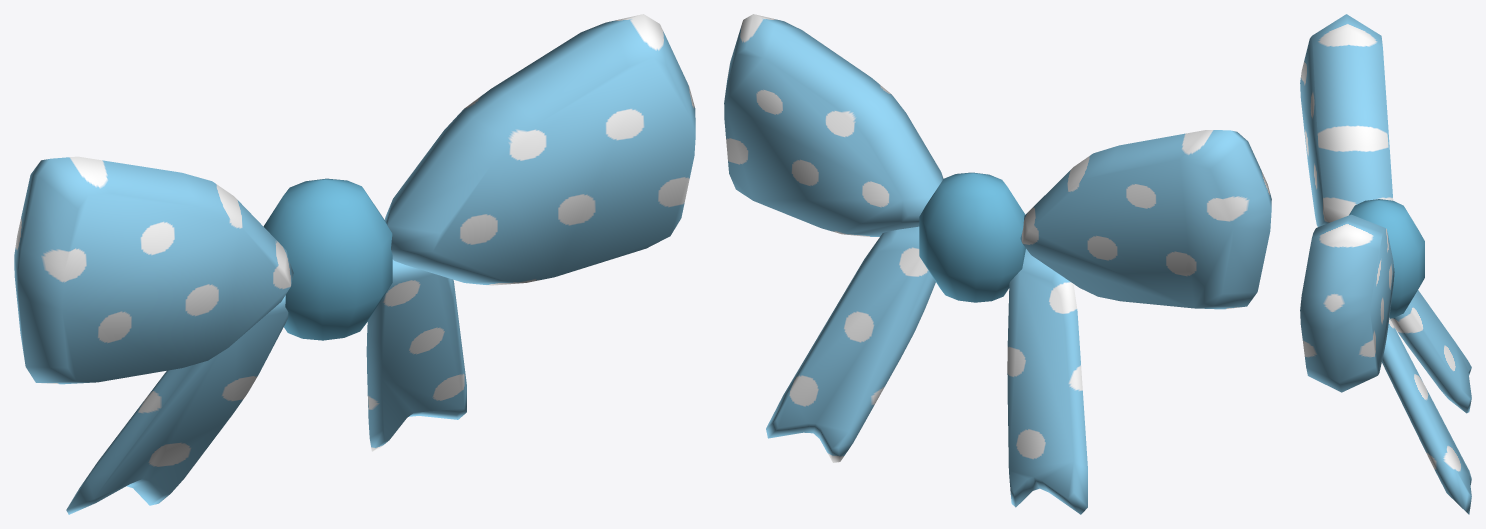
The model's file is ribbon_polka.glb.
3 views of the same model, side by side, from view 1: azimuth 30°, elevation 25°; view 2: azimuth 150°, elevation 25°; view 3: azimuth 270°, elevation 25° (orthographic). The views are drawn at different scales.
Parts seen in each view (by area): view 1: Loop.001, Loop, Tail, Knot, Tail.001; view 2: Loop, Loop.001, Tail.001, Tail, Knot; view 3: Loop, Loop.001, Tail.001, Tail, Knot.
Boxes of the visible parts, x1=… form: Loop.001: x1=385, y1=14, x2=695, y2=285; Loop: x1=14, y1=156, x2=293, y2=384; Tail: x1=66, y1=295, x2=288, y2=514; Knot: x1=263, y1=178, x2=392, y2=340; Tail.001: x1=366, y1=259, x2=466, y2=451; Loop: x1=1020, y1=130, x2=1271, y2=309; Loop.001: x1=724, y1=14, x2=943, y2=236; Tail.001: x1=766, y1=226, x2=935, y2=462; Tail: x1=1007, y1=249, x2=1087, y2=514; Knot: x1=919, y1=172, x2=1025, y2=302; Loop: x1=1300, y1=14, x2=1393, y2=226; Loop.001: x1=1300, y1=214, x2=1394, y2=392; Tail.001: x1=1382, y1=317, x2=1471, y2=514; Tail: x1=1390, y1=290, x2=1471, y2=413; Knot: x1=1349, y1=199, x2=1424, y2=318.
Size of the model in its own units: 0.1071 by 0.0684 by 0.032.
Materials: 1 (1 with a texture image).
